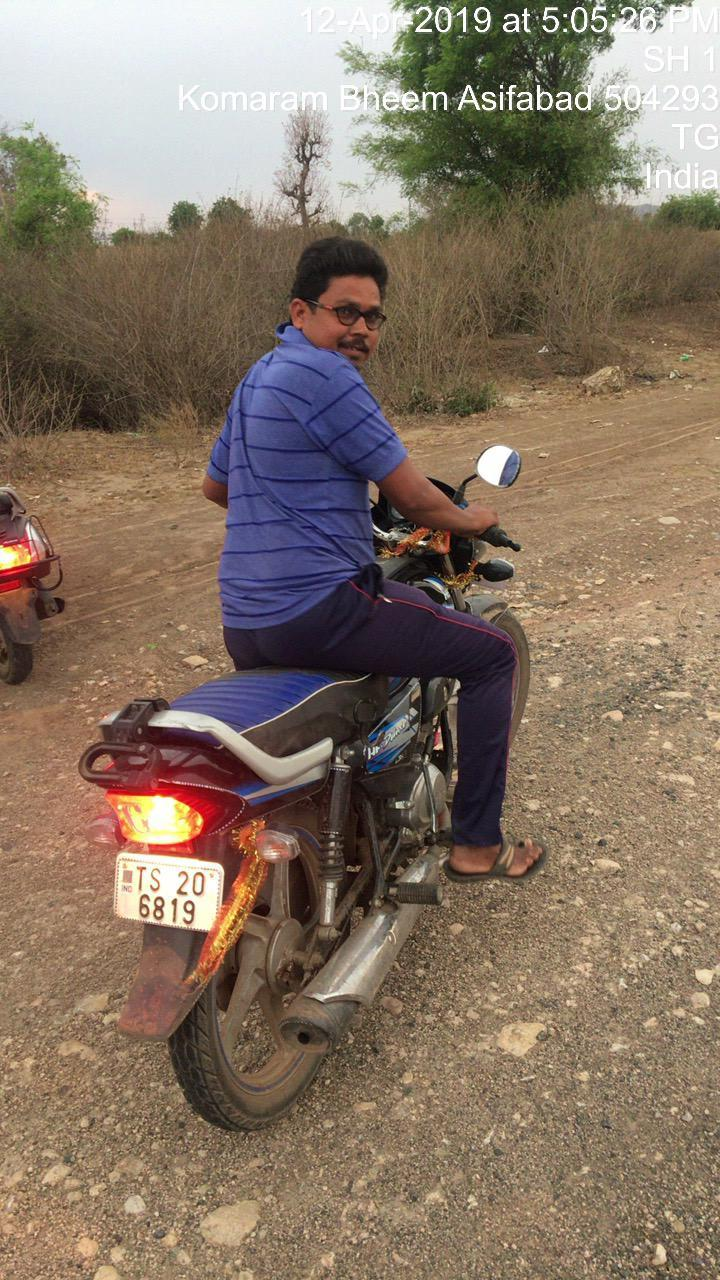plate: (87, 850, 248, 940)
